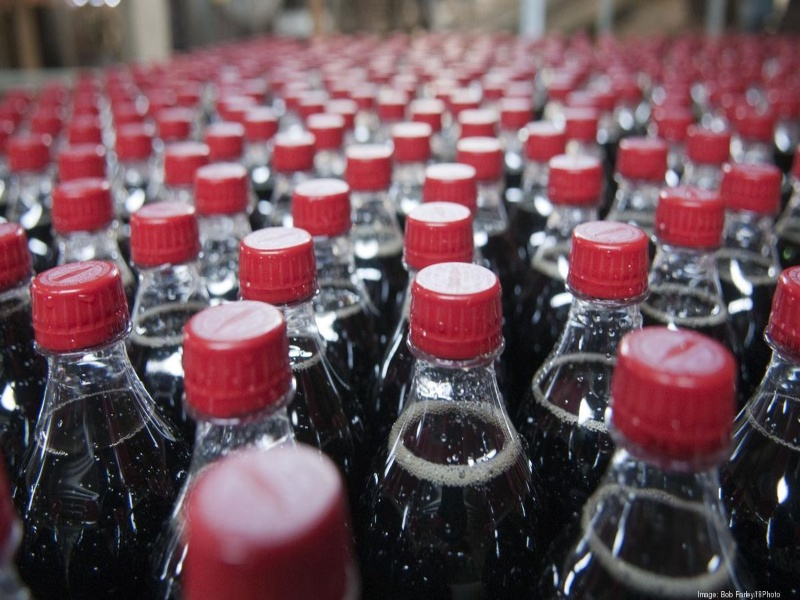Plastic bottle: (325, 240, 561, 584), (543, 290, 744, 600), (122, 293, 355, 535), (16, 237, 175, 564), (509, 196, 675, 490), (98, 188, 238, 389)
